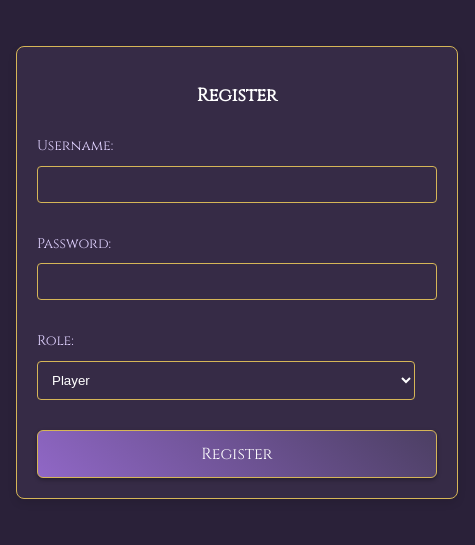
Test: RegisterPage.vue › displays a generic error message if API error response is not structured as expected
Type "testuser" into the field with id "username".
click(237, 184); type("testuser")  # box [37,166,437,203]
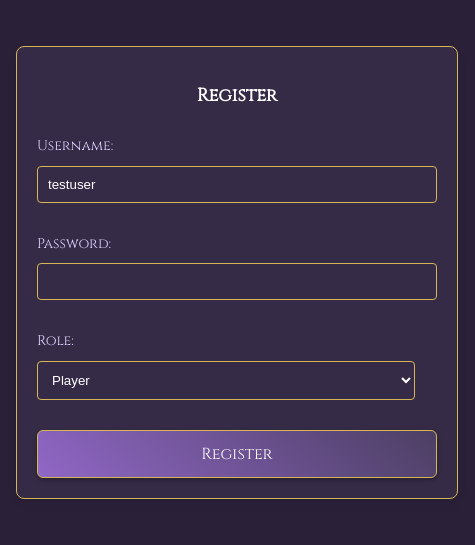
Type "password123" into the password field labelled "Password:".
click(237, 282); type("password123")  # box [37,263,437,300]
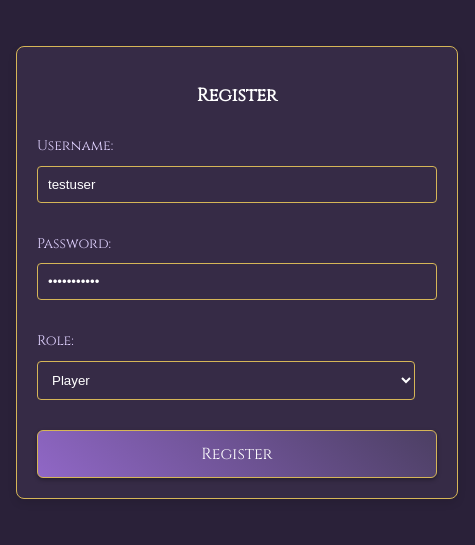
Submit the form, box [37,136,437,478]
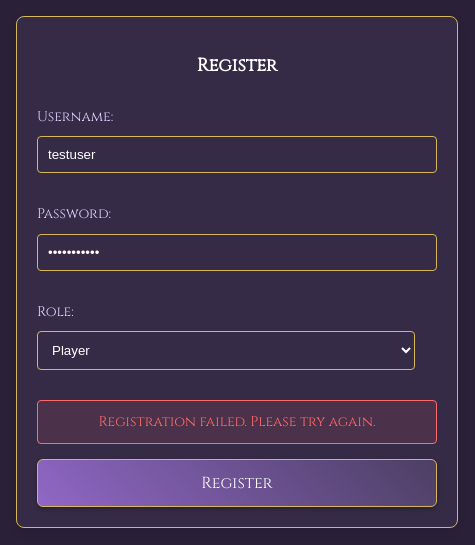
Expected: the text with class "error-message" reads "Registration failed. Please try again.", [98,412,376,431]
